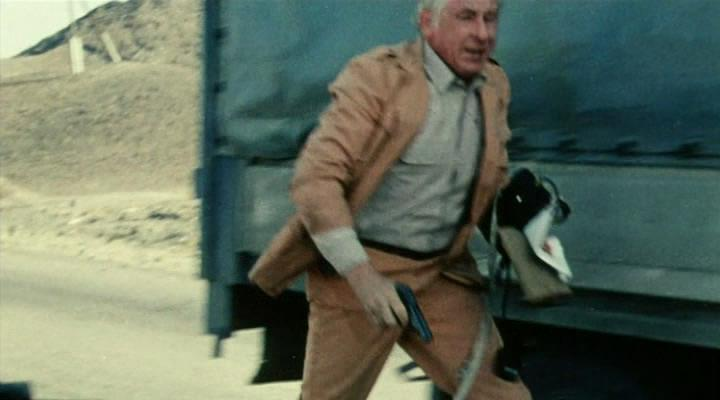gun: (359, 265, 463, 349)
